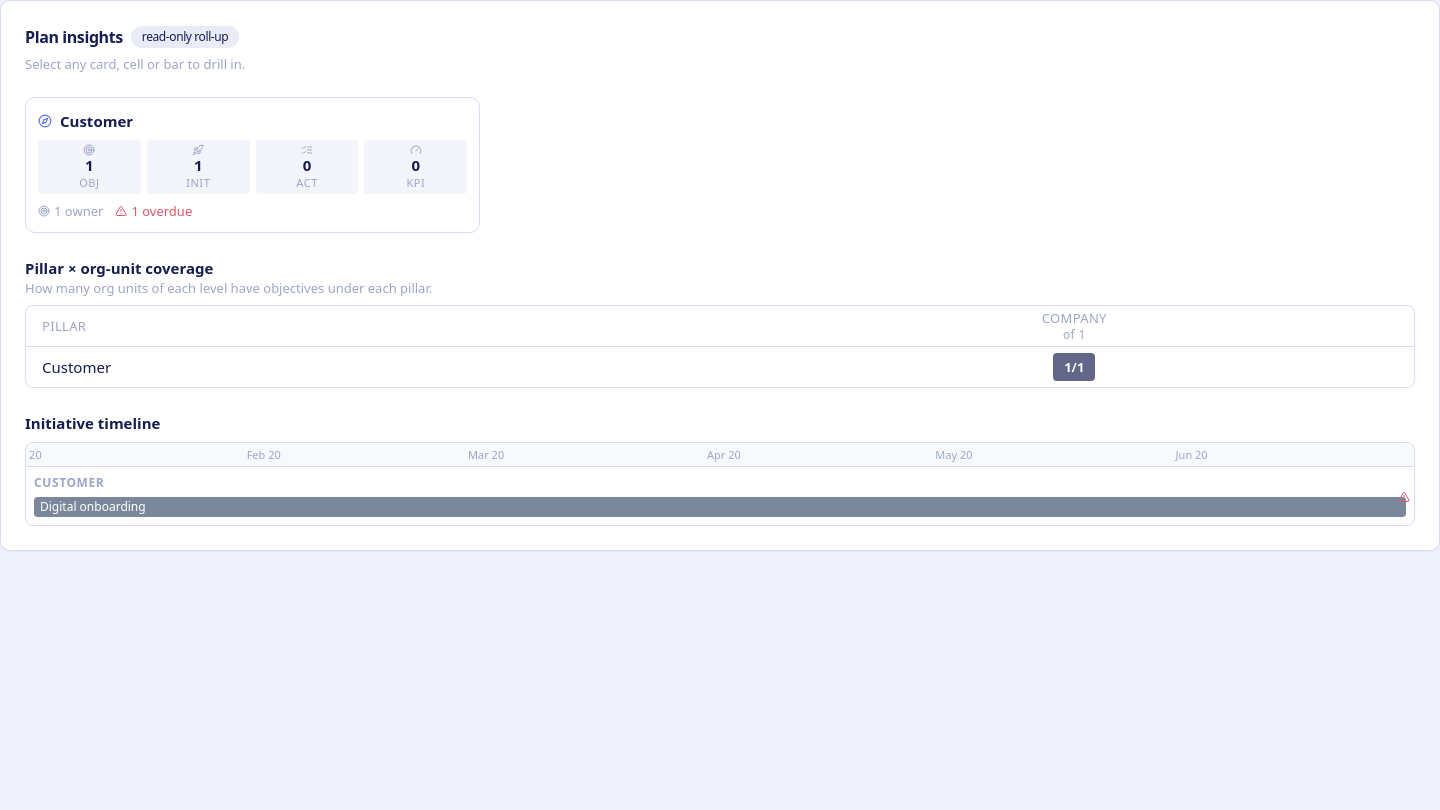
Test: FormulationInsights › drills into a pillar's initiatives in a side panel
The image size is (1440, 810).
What coordinates should you click on to do the following:
click the button with aria-label "Customer summary"
I would click on:
 (253, 152)
Its box is 38,110 -> 467,194.
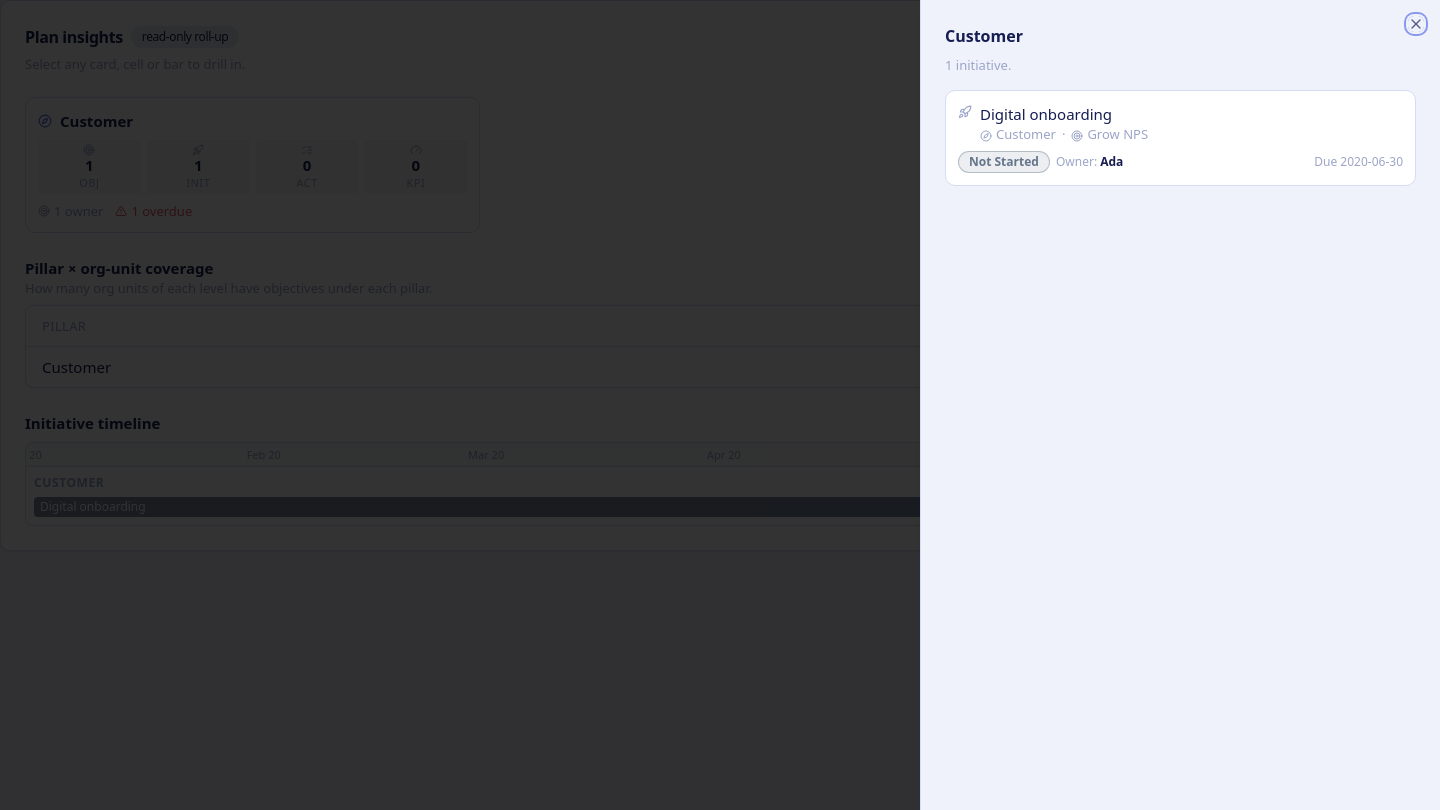
expect the text "1 initiative." is shown: met, box 945,56 -> 1011,74
expect the text "Digital onboarding" is shown: met, box 980,104 -> 1112,124
